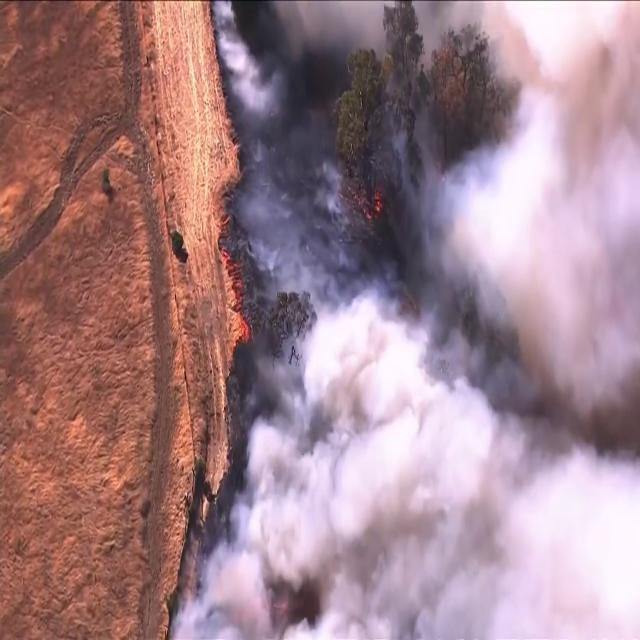Smoke: (188, 0, 640, 636)
